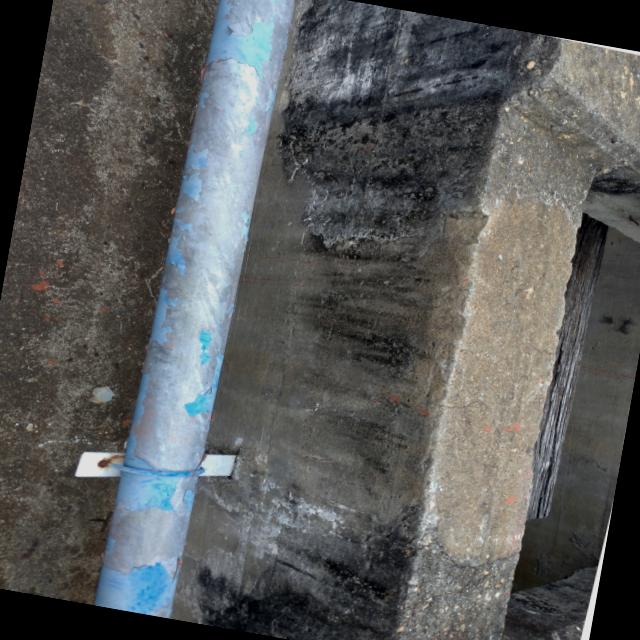gas: (87, 0, 295, 621)
